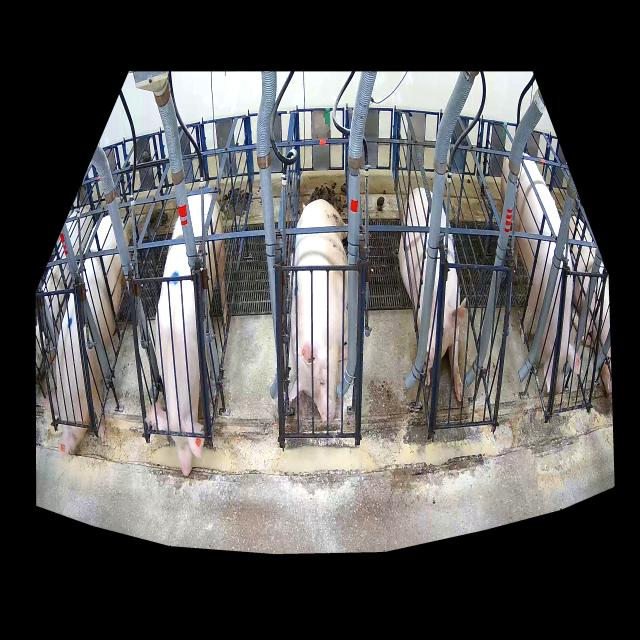pig: (144, 193, 228, 476), (501, 151, 582, 393), (45, 214, 123, 457), (399, 188, 466, 401), (288, 199, 348, 425)
